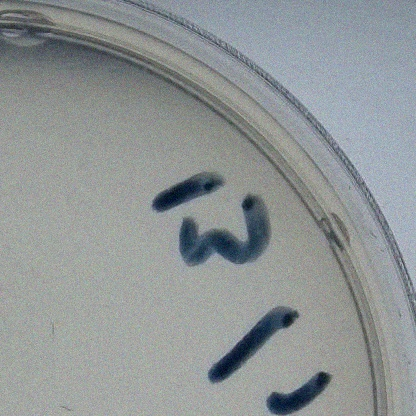worm: (43, 320, 67, 350), (0, 286, 18, 309), (54, 404, 79, 416)
